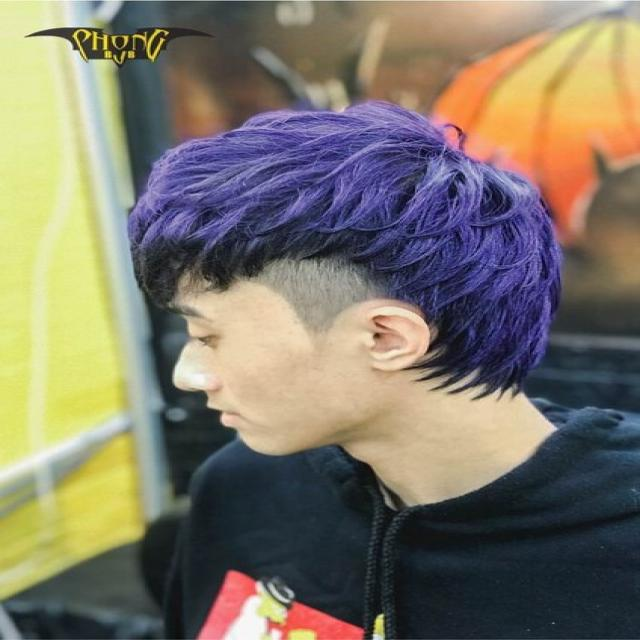Nonhelmet: (110, 95, 583, 468)
